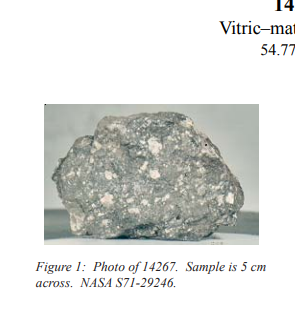Breccia: (45, 108, 253, 240), (98, 129, 219, 226)
